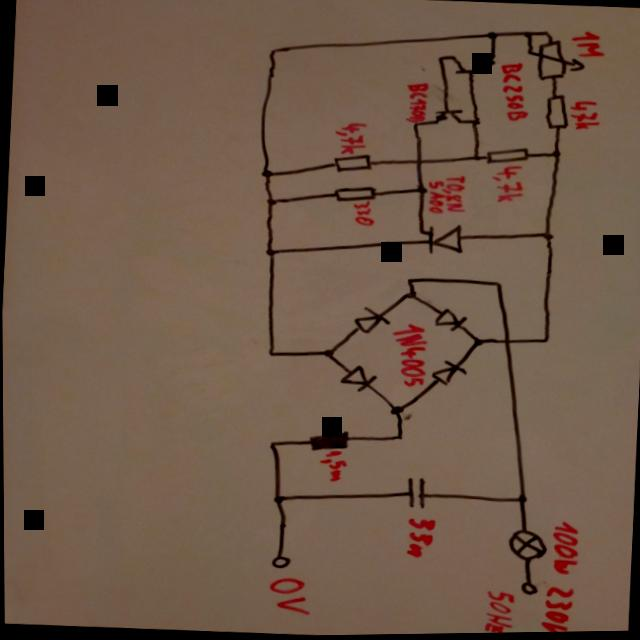capacitor: (398, 473, 436, 511)
crossover: (411, 154, 427, 169), (500, 336, 516, 348)
diode: (351, 302, 393, 338), (430, 356, 470, 389), (339, 363, 380, 394), (432, 305, 471, 335)
inductor: (308, 426, 355, 453)
junction: (260, 243, 283, 260), (387, 400, 407, 418), (323, 344, 339, 360), (263, 194, 280, 209), (260, 164, 277, 179), (263, 346, 282, 359), (412, 183, 430, 196), (469, 115, 485, 129), (515, 493, 531, 507), (549, 148, 566, 161), (470, 335, 487, 348), (271, 492, 287, 505), (486, 29, 502, 42), (539, 335, 555, 348), (266, 43, 282, 56), (404, 290, 422, 301), (540, 230, 556, 242), (492, 278, 506, 290), (267, 437, 281, 448), (522, 28, 536, 39), (472, 153, 484, 165), (394, 431, 407, 442), (543, 28, 556, 39), (405, 275, 418, 284), (436, 54, 447, 64), (412, 120, 423, 129)
resistor: (523, 38, 588, 83), (544, 90, 574, 135), (328, 150, 378, 176), (333, 181, 384, 206), (485, 144, 535, 167)
terminal: (519, 580, 540, 598), (270, 553, 293, 569)
text: (390, 322, 432, 388), (266, 573, 314, 618), (536, 583, 578, 634), (548, 518, 583, 577), (499, 61, 532, 123), (429, 172, 471, 218), (401, 514, 439, 562), (479, 588, 518, 634), (491, 162, 528, 205), (335, 118, 371, 156), (404, 80, 433, 124), (572, 27, 610, 60), (569, 98, 605, 132), (319, 448, 349, 484), (353, 199, 378, 228)
thyristor: (415, 220, 469, 258)
transistor: (452, 52, 499, 79), (434, 105, 467, 127)
